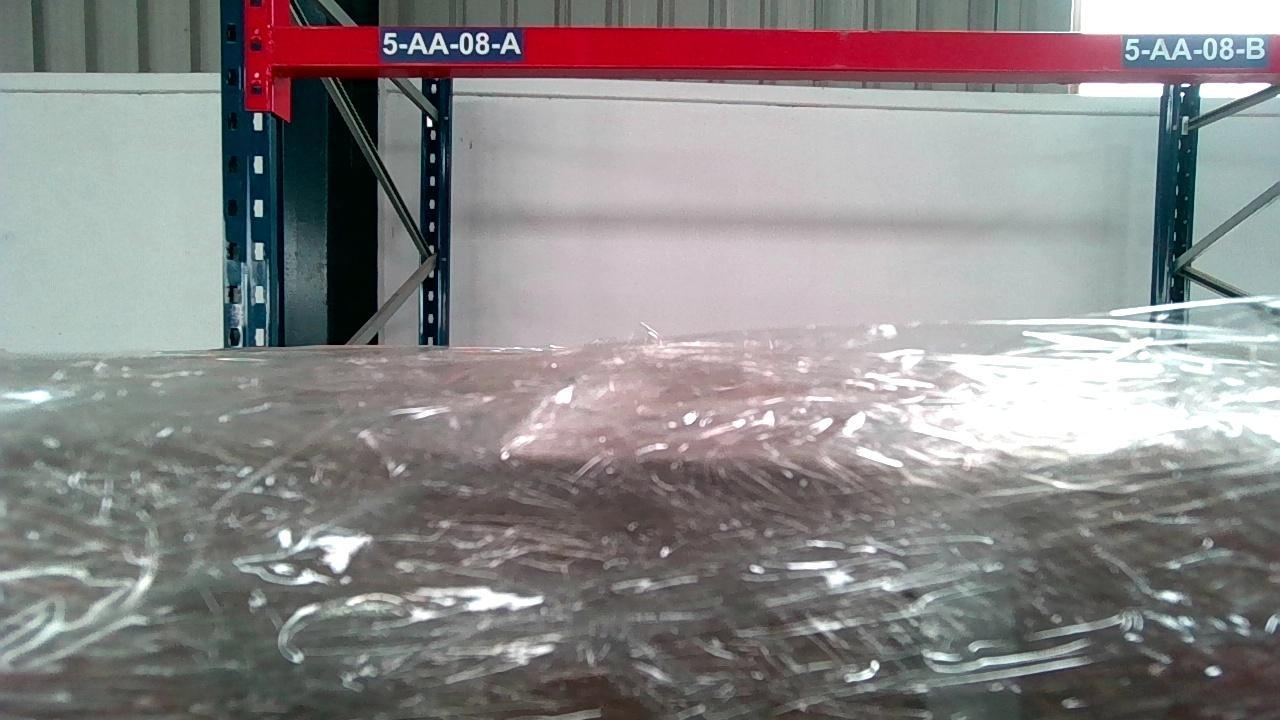h_rack: (270, 22, 1280, 73)
